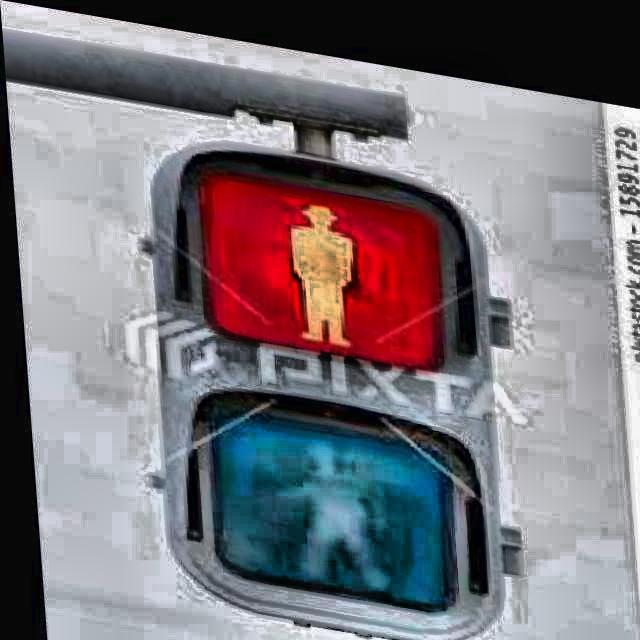semaforo pedestre: (61, 84, 590, 640)
